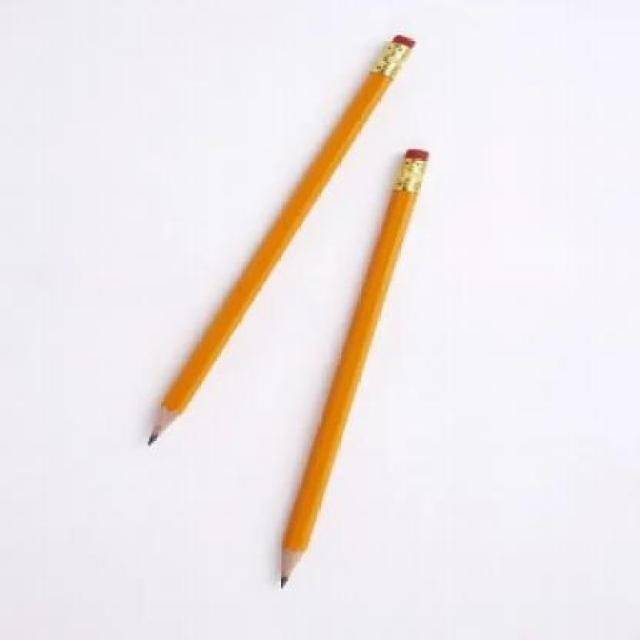pencil: (117, 23, 435, 459), (254, 142, 442, 599)
